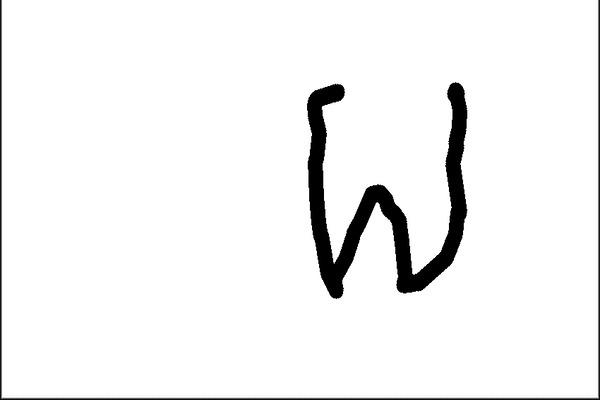w: (272, 60, 488, 322)
